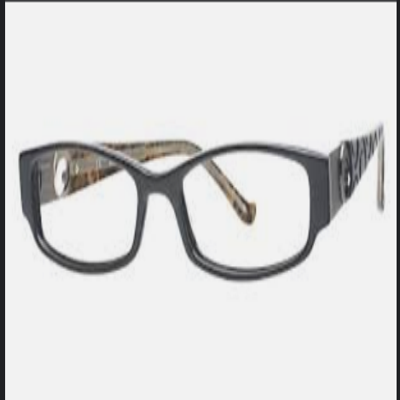glasses: (17, 123, 392, 281)
